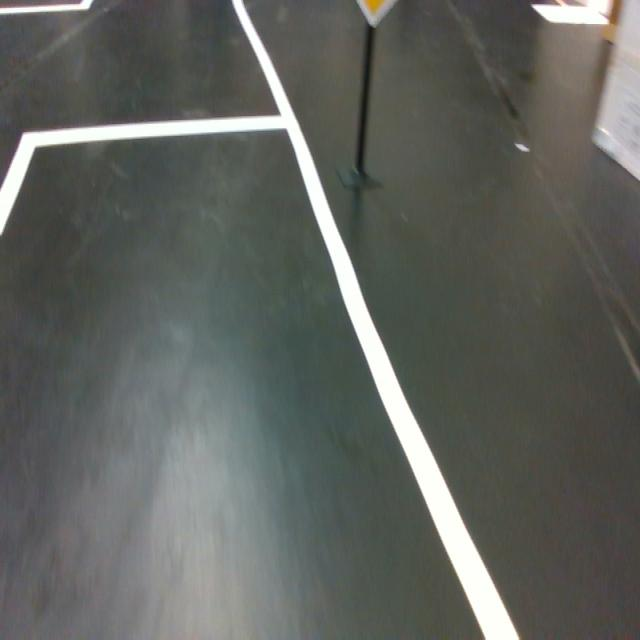priority-sign: (352, 0, 399, 28)
